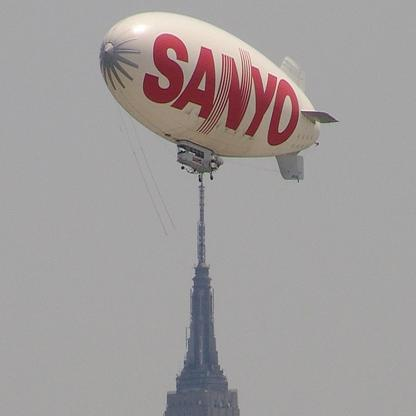Airship: (97, 8, 341, 189)
